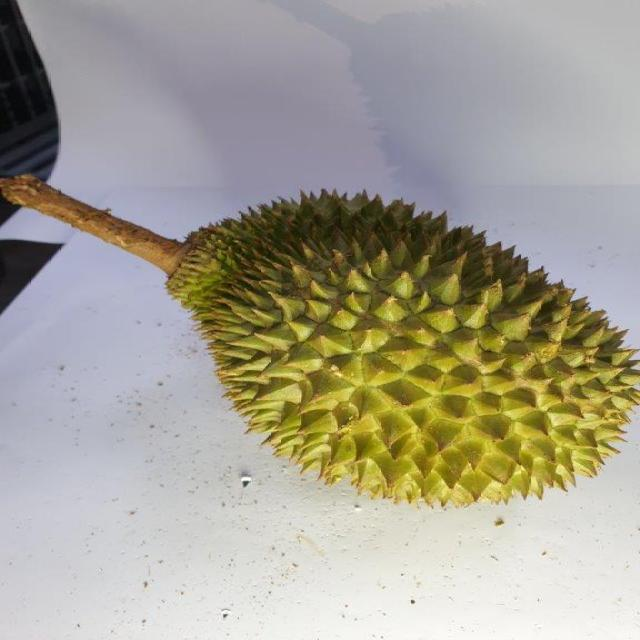immature: (171, 187, 640, 509)
